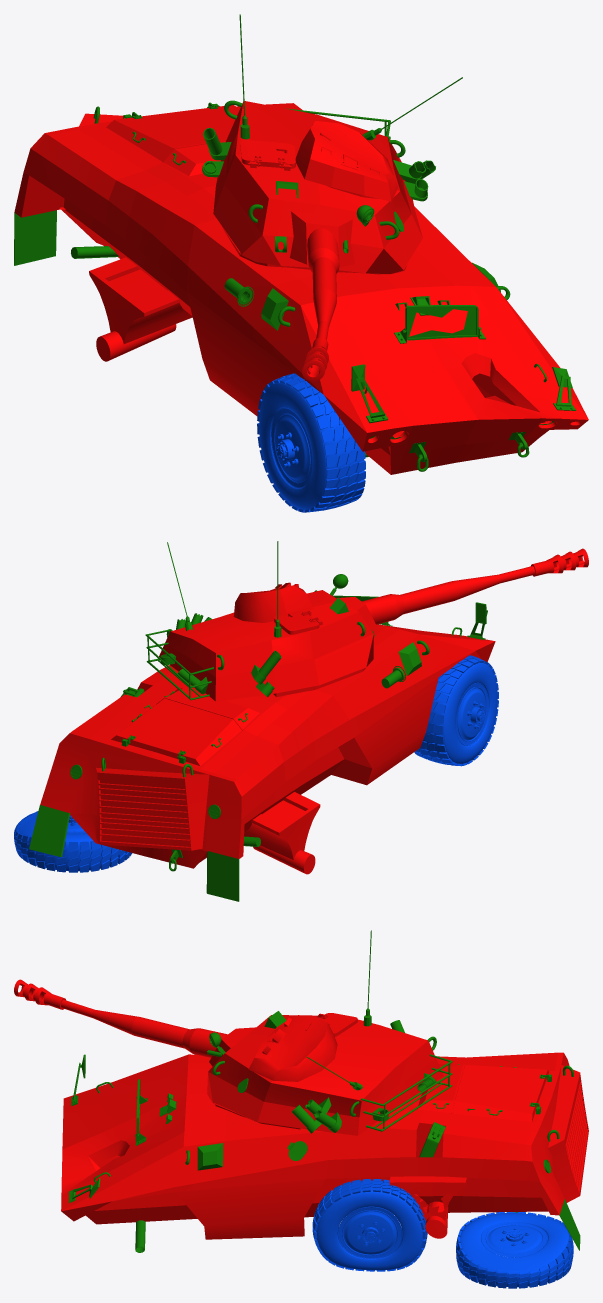
The picture shows the model from 3 angles, top to bottom: view 1: azimuth 30°, elevation 25°; view 2: azimuth 150°, elevation 25°; view 3: azimuth 270°, elevation 25°; orthographic projection. The views are drawn at different scales.
Parts seen in each view (by area): view 1: base body, turre tbase, tire_001, side part, hatch, back door, big gun, turret misc, back tires shield, glass viewport, turret door, mirrors (+1 smaller); view 2: base body, turre tbase, back air inlet, tire_001, back door, big gun, side part, tire_003, back tires shield, hatch, turret misc, turret door (+1 smaller); view 3: base body, turre tbase, tire_002, tire_003, back door, hatch, back air inlet, big gun, turret misc, side part, side boxes, turret door (+2 smaller).
Part boxes in pixels (x1,y1,x2,y2): base body: (14,103,588,474); turre tbase: (213,101,422,274); tire_001: (257,373,365,512); side part: (89,257,192,361); hatch: (295,121,398,201); back door: (106,105,239,176); big gun: (302,228,339,381); turret misc: (202,108,435,252); back tires shield: (14,210,56,265); glass viewport: (394,305,485,343); turret door: (240,140,295,170); mirrors: (351,364,576,423); base body: (40,624,495,868); turre tbase: (159,590,377,701); back air inlet: (96,767,210,850); tire_001: (414,655,498,766); back door: (111,688,259,765); big gun: (362,548,588,624); side part: (244,792,320,874); tire_003: (14,811,132,872); back tires shield: (29,805,239,901); hatch: (233,582,313,622); turret misc: (145,613,374,700); turret door: (274,610,322,634); base body: (61,1052,569,1239); turre tbase: (207,1015,443,1135); tire_002: (312,1178,427,1271); tire_003: (456,1212,573,1288); back door: (417,1064,548,1122); hatch: (248,1015,337,1081); back air inlet: (548,1064,588,1202); big gun: (14,979,227,1057); turret misc: (237,1020,452,1133); side part: (389,1176,467,1238); side boxes: (197,1143,223,1170); turret door: (317,1013,357,1036).
Size of the model in its own units: 163 by 270 by 144.
